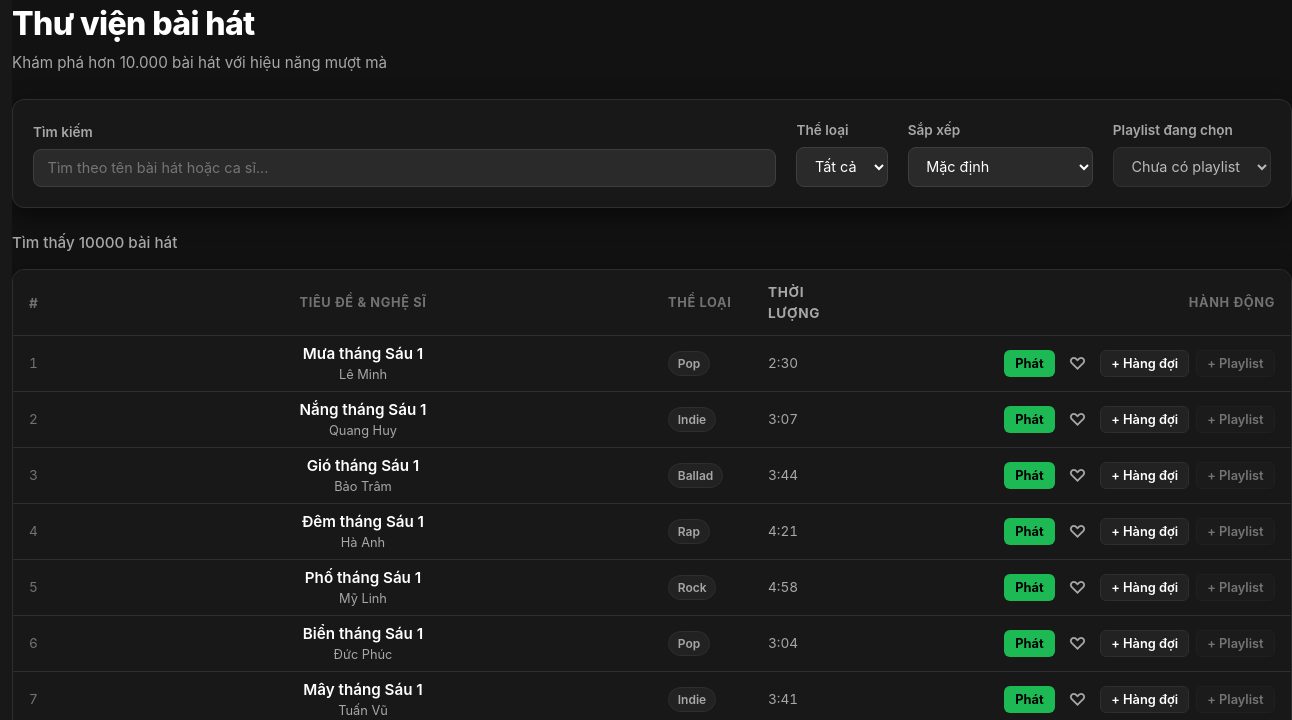
Scenario: Kiểm thử component LibraryPage › chọn thể loại Rock khi ô tìm kiếm vẫn là "mưa" thì hiển thị "Tìm thấy 250 bài hát"
Type "mưa" into the field labelled "Tìm kiếm" at (405, 168), box [33, 149, 776, 187]
Wait 300 ms
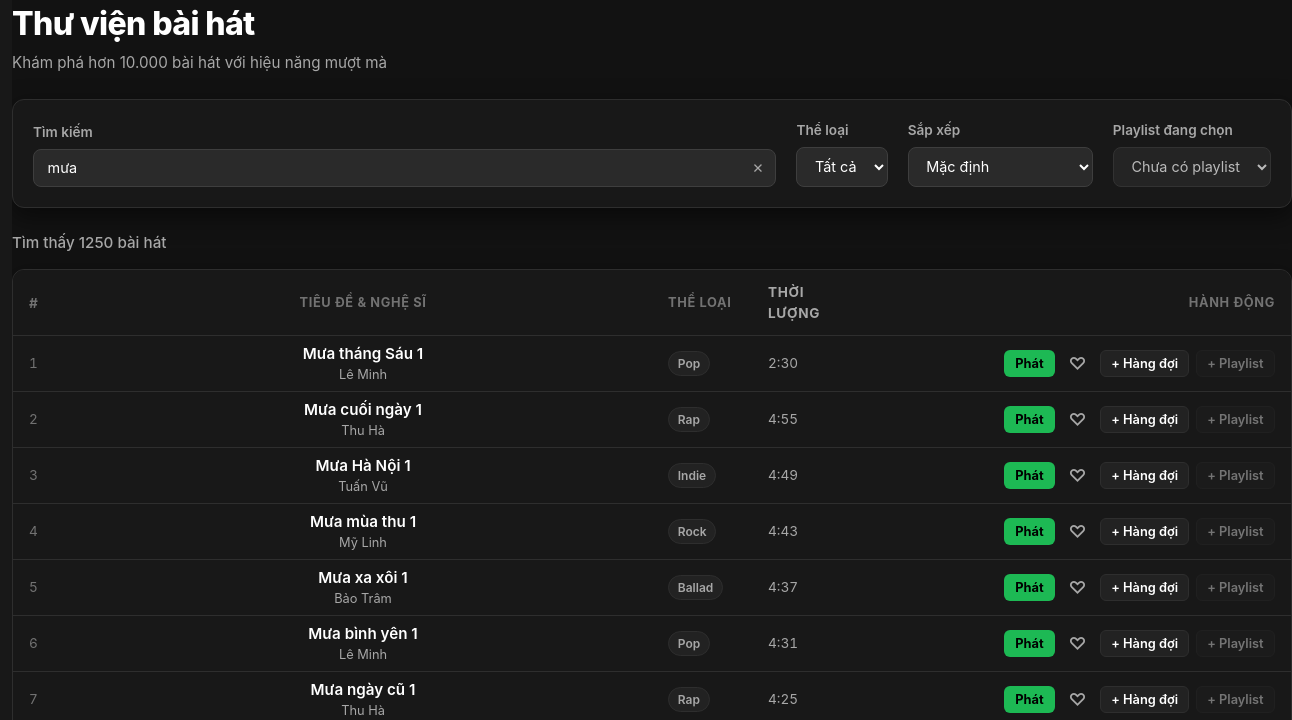
Select "Rock" in the dropdown labelled "Thể loại" at (842, 167), box [796, 147, 888, 187]
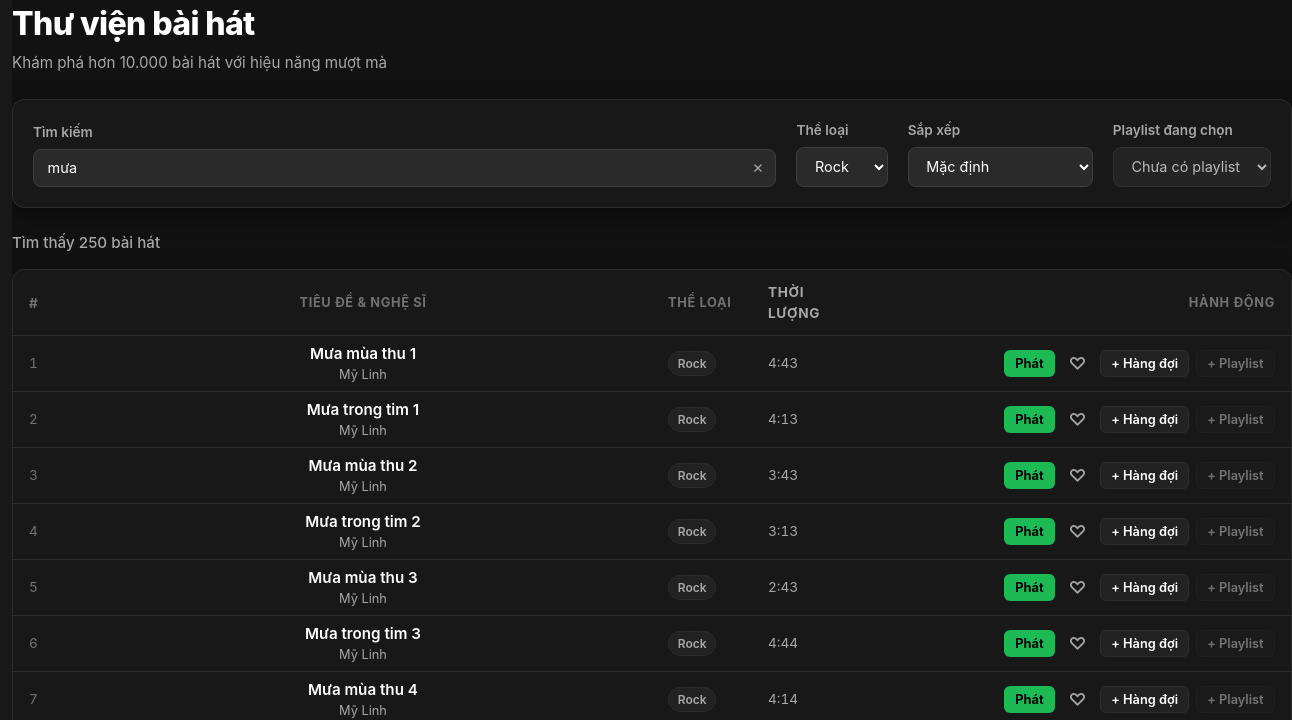
Check: the text "Tìm thấy 250 bài hát" is shown, box [12, 233, 160, 252]
